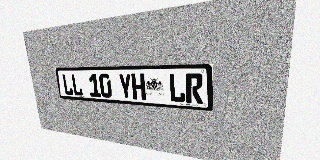0: (99, 74, 112, 98)
1: (88, 74, 101, 97)
H: (131, 73, 146, 100)
L: (169, 73, 185, 103), (71, 74, 83, 96), (62, 74, 74, 95)
R: (185, 73, 203, 104)
Y: (118, 73, 133, 99)
